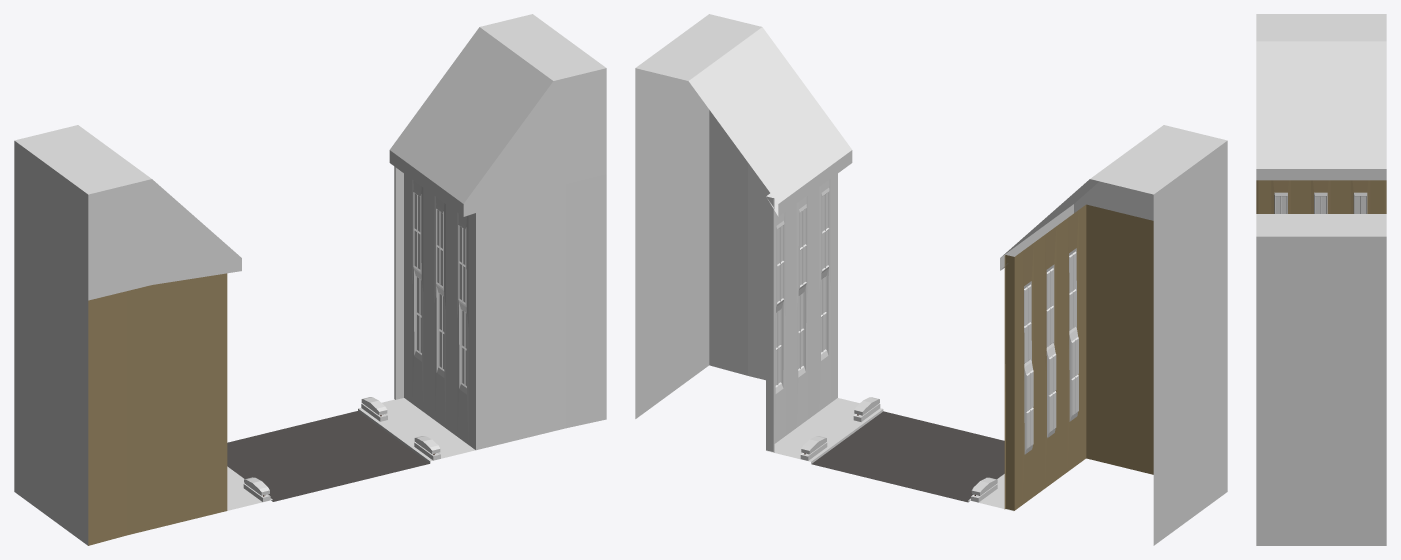
File: RUATileUm 1.fbx
3 renders of one model, left to right at view 1: azimuth 30°, elevation 25°; view 2: azimuth 150°, elevation 25°; view 3: azimuth 270°, elevation 25°, orthographic. The views are drawn at different scales.
Parts seen in each view (by area): view 1: RUATileUm; view 2: RUATileUm; view 3: RUATileUm.
Part boxes in pixels (bbox=[...]): RUATileUm: bbox=[14, 14, 606, 545]; RUATileUm: bbox=[635, 14, 1227, 545]; RUATileUm: bbox=[1256, 14, 1386, 545].
Size of the model in its own units: 2483 by 1619 by 613.
